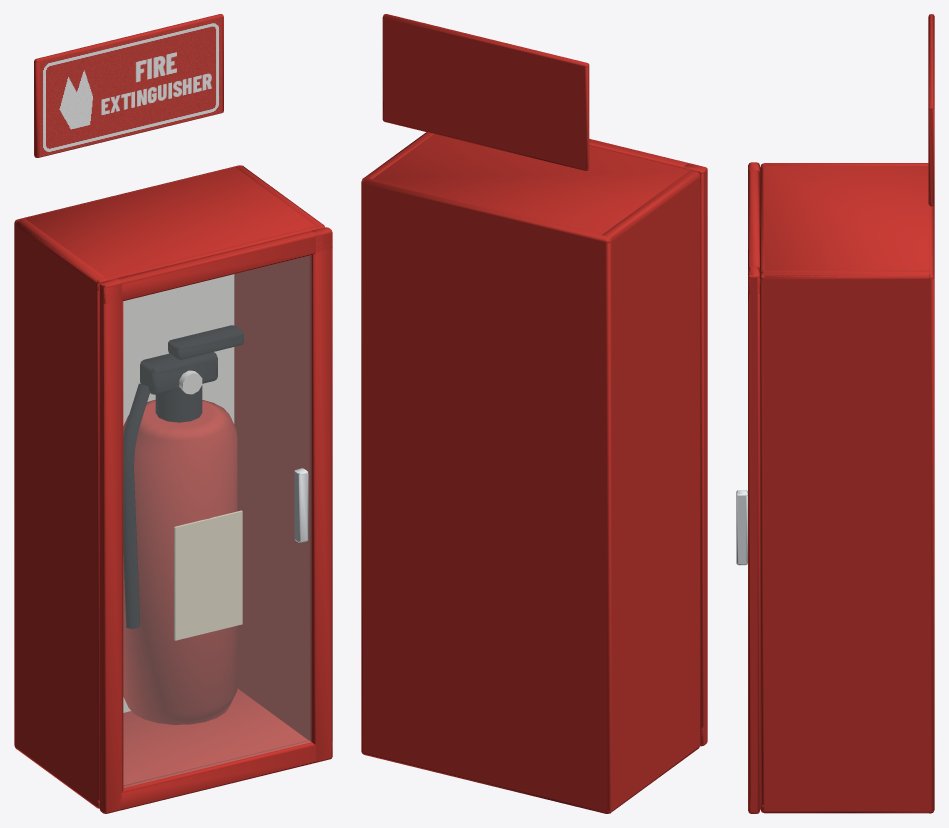
The model's file is extinguisher_cabinet.glb.
3 views of the same model, side by side, from view 1: azimuth 30°, elevation 25°; view 2: azimuth 150°, elevation 25°; view 3: azimuth 270°, elevation 25° (orthographic). The views are drawn at different scales.
Parts seen in each view (by area): view 1: ExtinguisherCabinetBody, Glass_Cabinet; view 2: ExtinguisherCabinetBody; view 3: ExtinguisherCabinetBody.
Part boxes in pixels (box(x1,y1,x2,y2)): ExtinguisherCabinetBody: box(14, 14, 332, 813); Glass_Cabinet: box(123, 256, 311, 787); ExtinguisherCabinetBody: box(361, 14, 707, 813); ExtinguisherCabinetBody: box(736, 14, 934, 813).
Bounding box in the file's own units: 0.34 × 0.97 × 0.25.
Materials: 7 (1 with a texture image).
